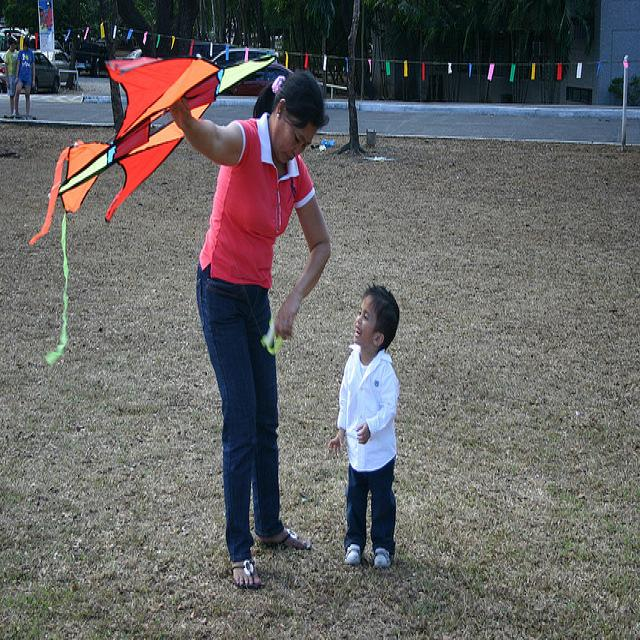Vehicle: (218, 62, 294, 96), (211, 48, 277, 68), (34, 53, 61, 92), (45, 50, 71, 84)
